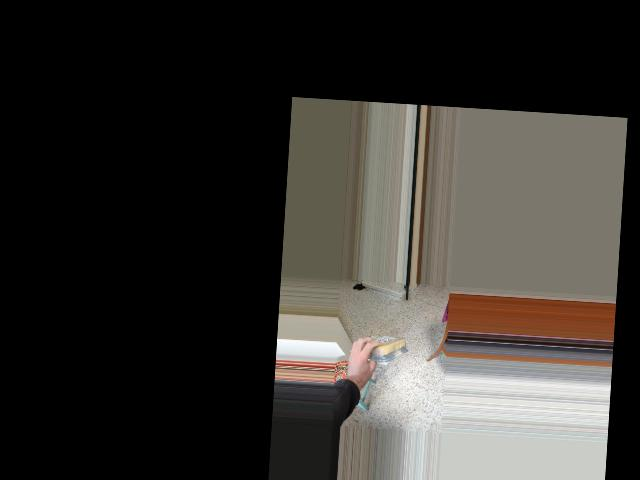cheese: (361, 334, 409, 359)
